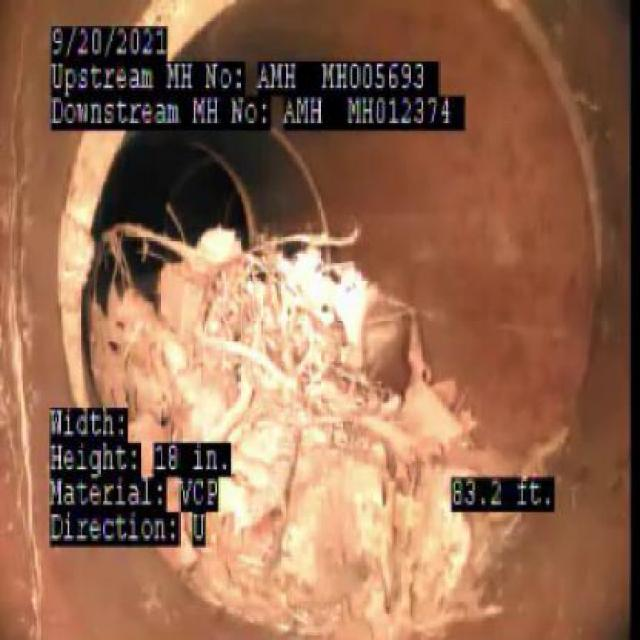Joint offset: (11, 126, 123, 400)
Obstacle: (109, 218, 508, 622)
